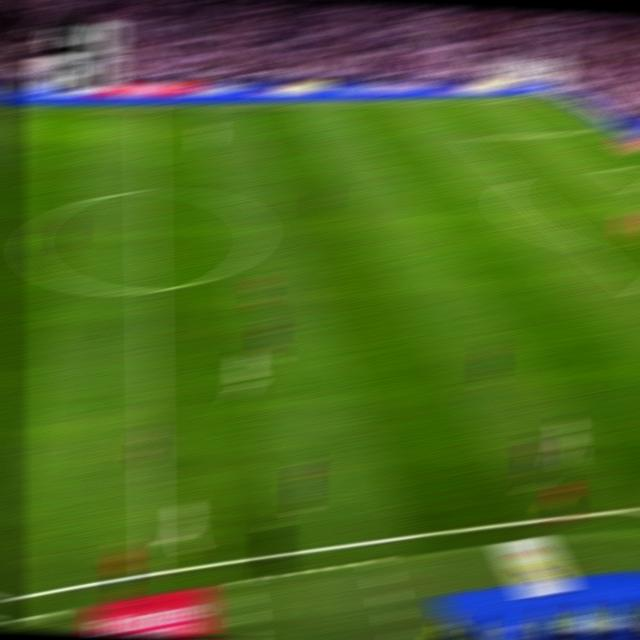bigarea_top_inner: (458, 131, 479, 143)
bigarea_top_outter: (590, 124, 608, 134)
bottom_arc_area_intersection: (576, 239, 598, 252)
corner: (536, 93, 556, 101)
halfcircle_bottom: (137, 277, 161, 301)
halfcircle_top: (136, 180, 159, 201)
midline_bottom_intersection: (137, 554, 166, 582)
midline_top_intersection: (137, 103, 156, 115)
smallarea_top_inner: (600, 162, 618, 174)
top_arc_area_intersection: (504, 172, 524, 185)
